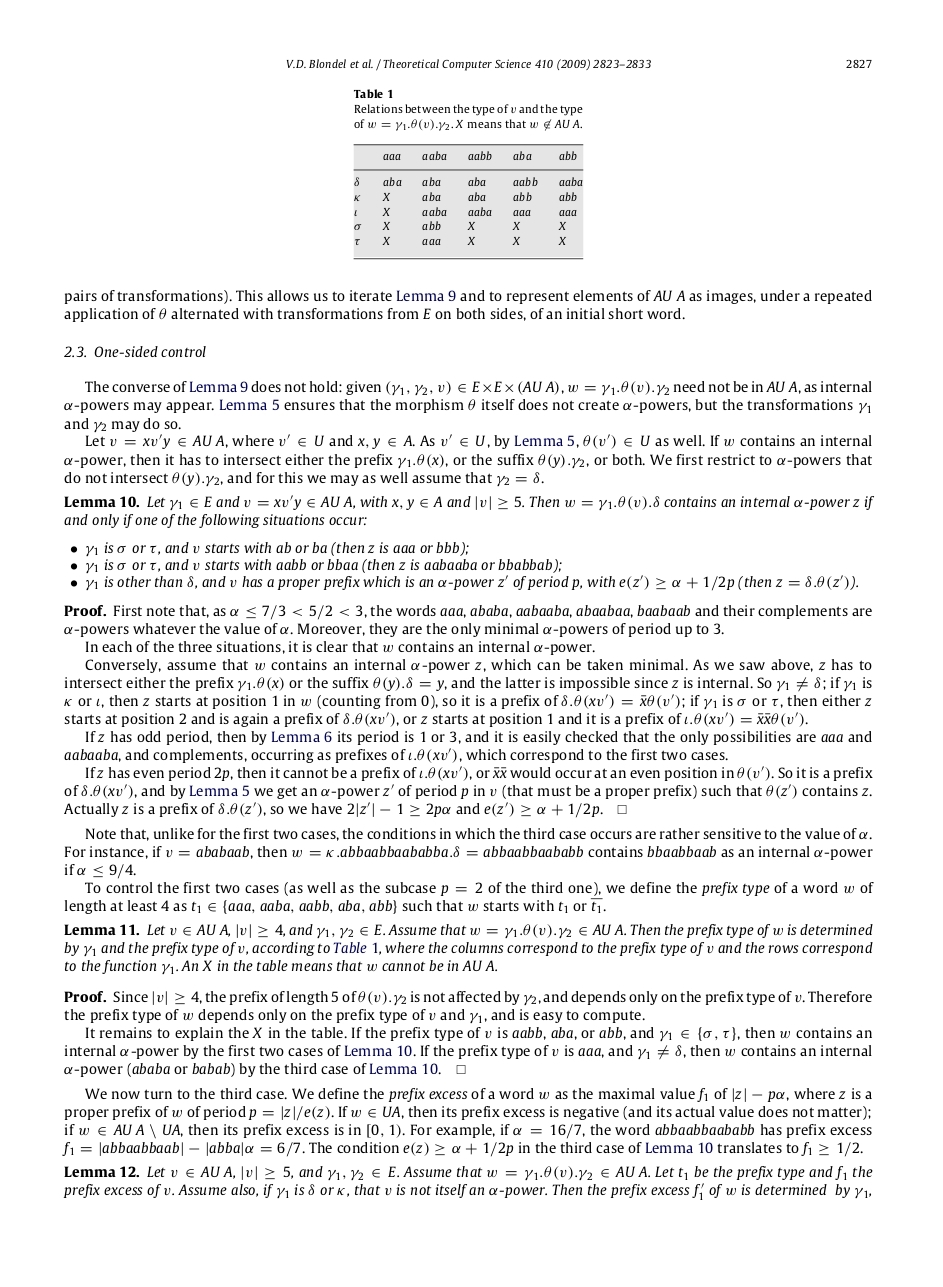Table: (353, 142, 583, 260)
